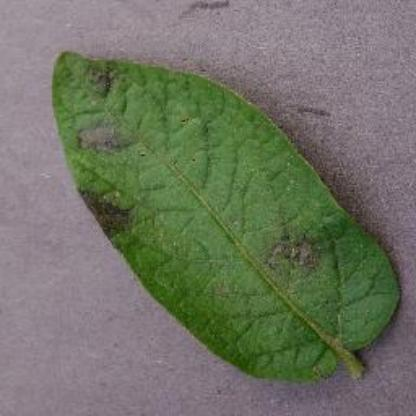Late-Blight: (43, 23, 405, 396)
